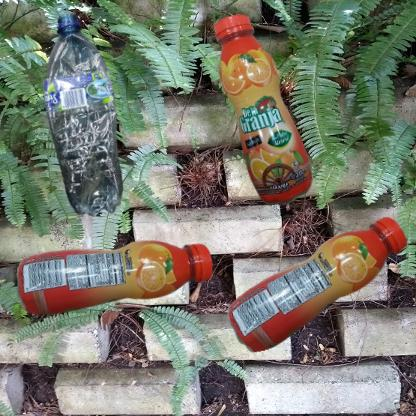botella: (10, 10, 183, 252), (213, 213, 416, 376), (10, 213, 236, 354), (213, 10, 317, 216)
